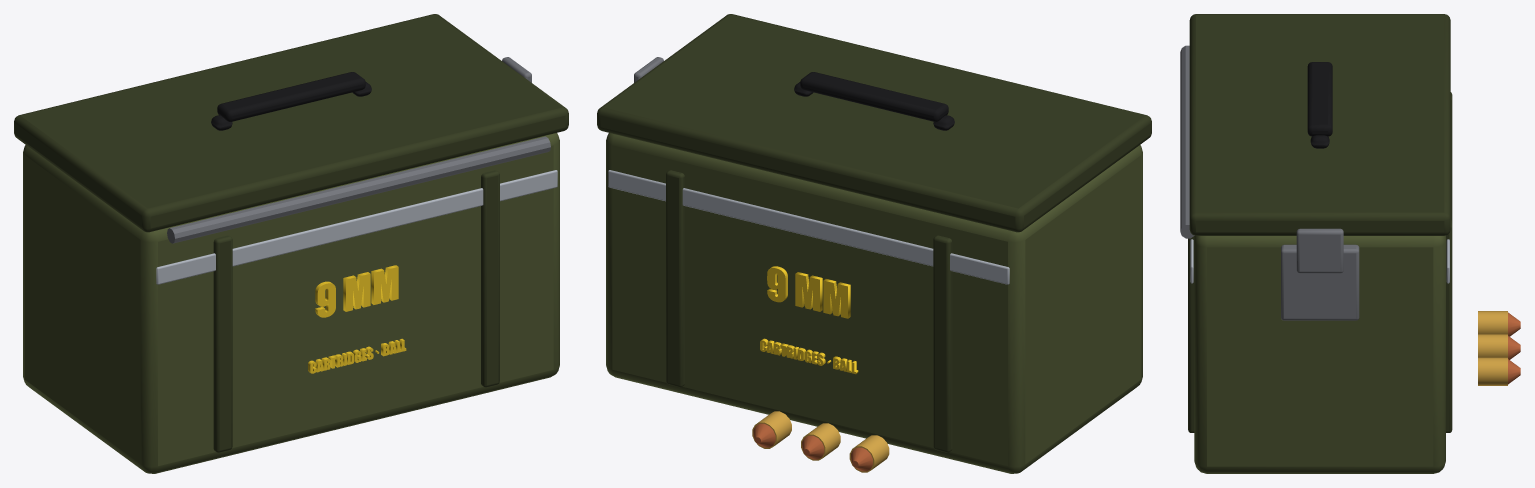
The model's file is municion_1.glb.
3 renders of one model, left to right at view 1: azimuth 30°, elevation 25°; view 2: azimuth 150°, elevation 25°; view 3: azimuth 270°, elevation 25°, orthographic. The views are drawn at different scales.
Visible parts, largest first — view 1: Cube; view 2: Cube; view 3: Cube.
Boxes of the visible parts, x1,y1,x2,y2 form: Cube: [14, 14, 568, 473]; Cube: [597, 14, 1151, 473]; Cube: [1180, 14, 1520, 473].
Bounding box in the file's own units: 0.318 × 0.2 × 0.2166.
